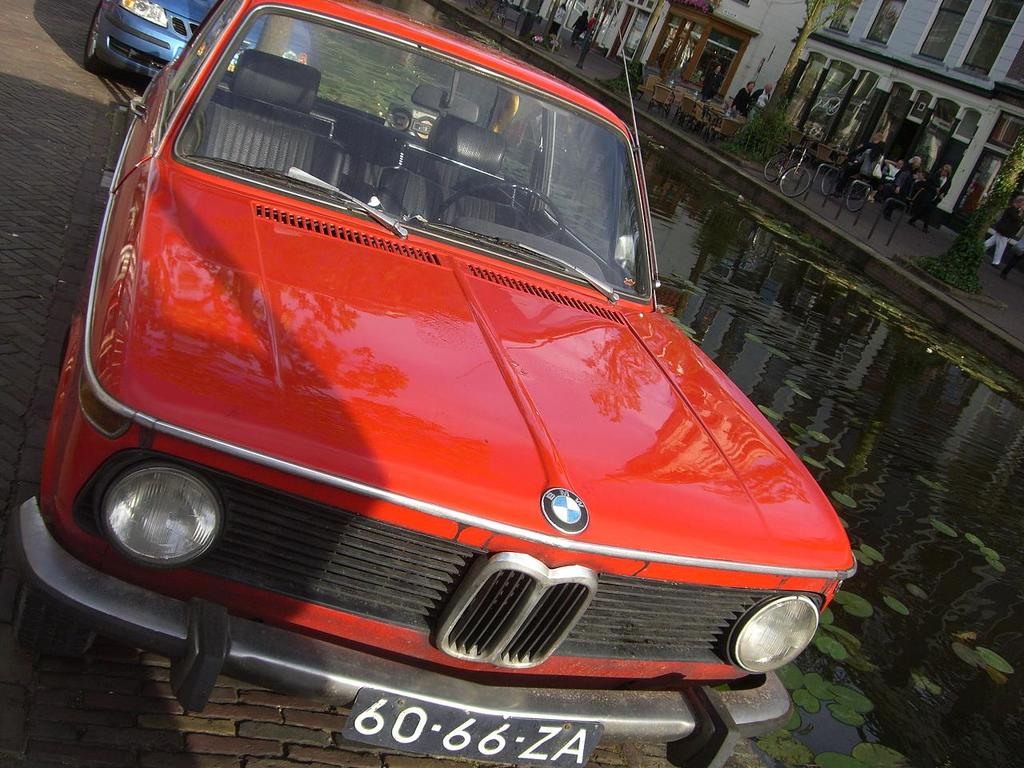Tree: (715, 0, 862, 167), (911, 126, 1024, 290)
